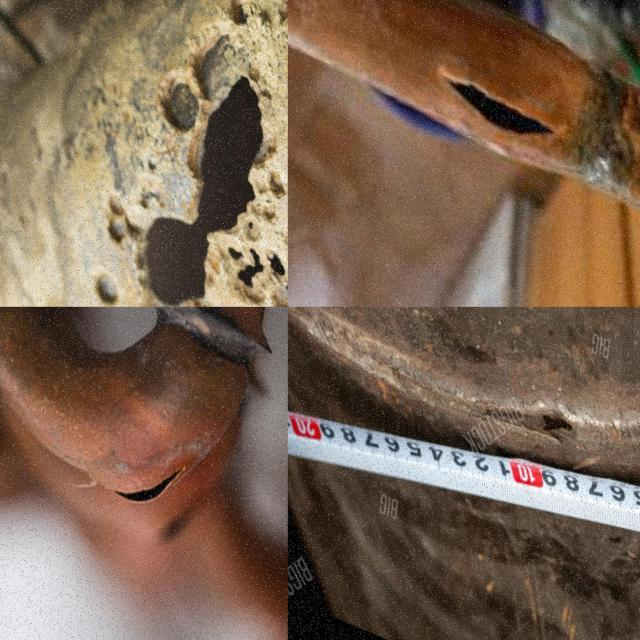hole: (169, 42, 278, 245), (120, 186, 224, 308), (147, 53, 207, 141), (526, 386, 577, 444), (253, 156, 288, 236), (94, 184, 131, 250), (232, 229, 263, 295), (81, 260, 121, 308), (261, 235, 288, 273), (219, 231, 239, 264), (276, 266, 288, 301)
rupture: (425, 42, 566, 153), (97, 462, 182, 511)
